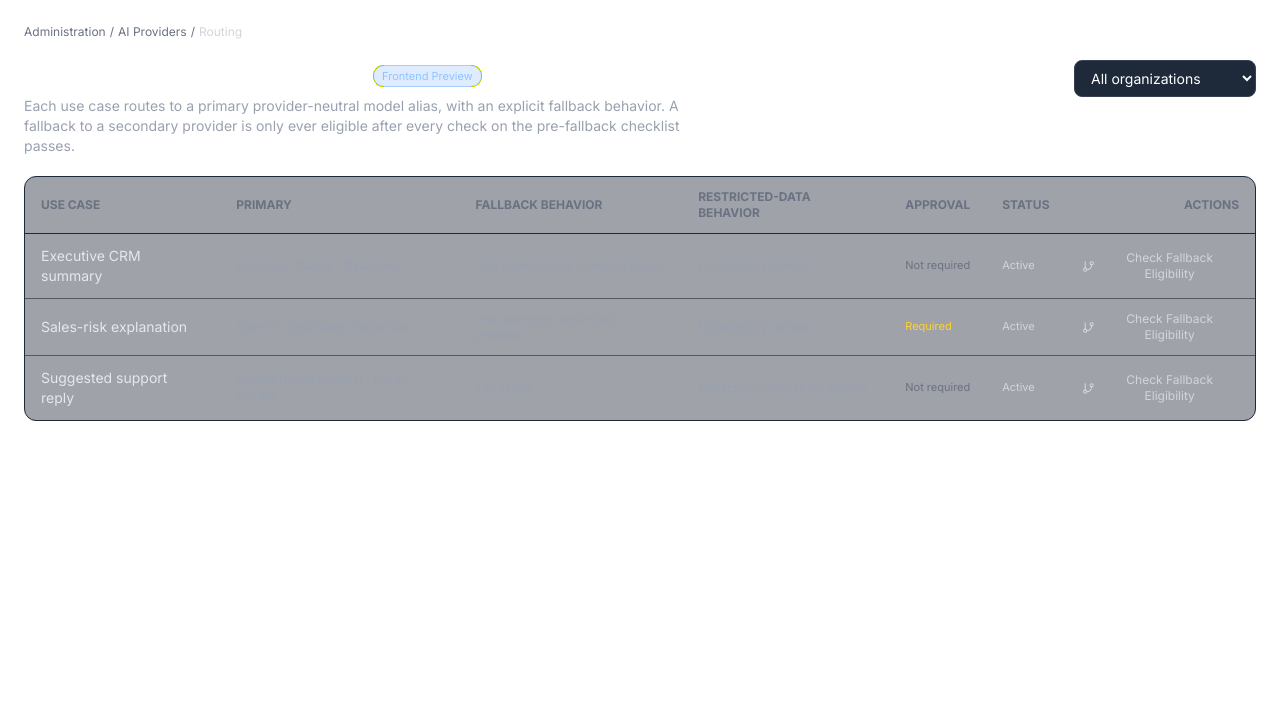
Test: AiRoutingPolicyConfig › opens the fallback eligibility checklist and shows pass/fail rows
Click the button "Check Fallback Eligibility" in the row of "Sales-risk explanation": (1160, 327) [1082,311,1239,343]
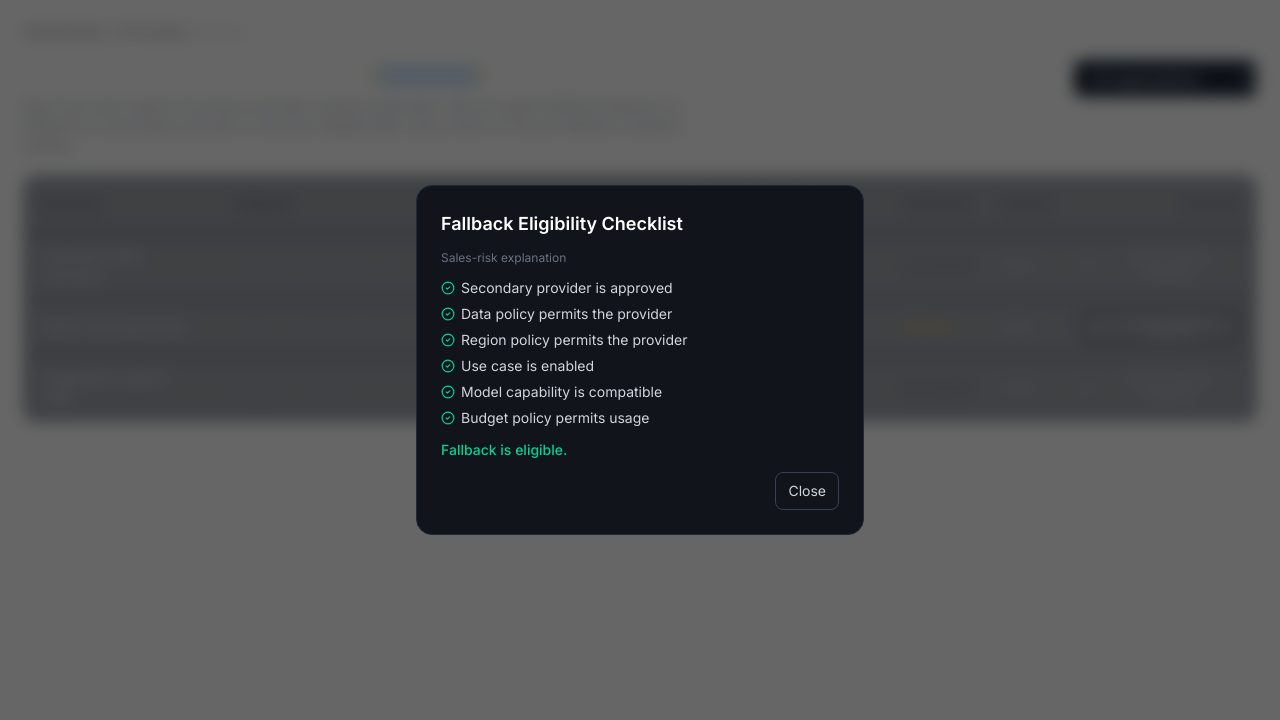
Expected: the heading "Fallback Eligibility Checklist" is shown, [441,213,683,234]
Expected: the text "Secondary provider is approved" is shown, [461,278,673,298]
